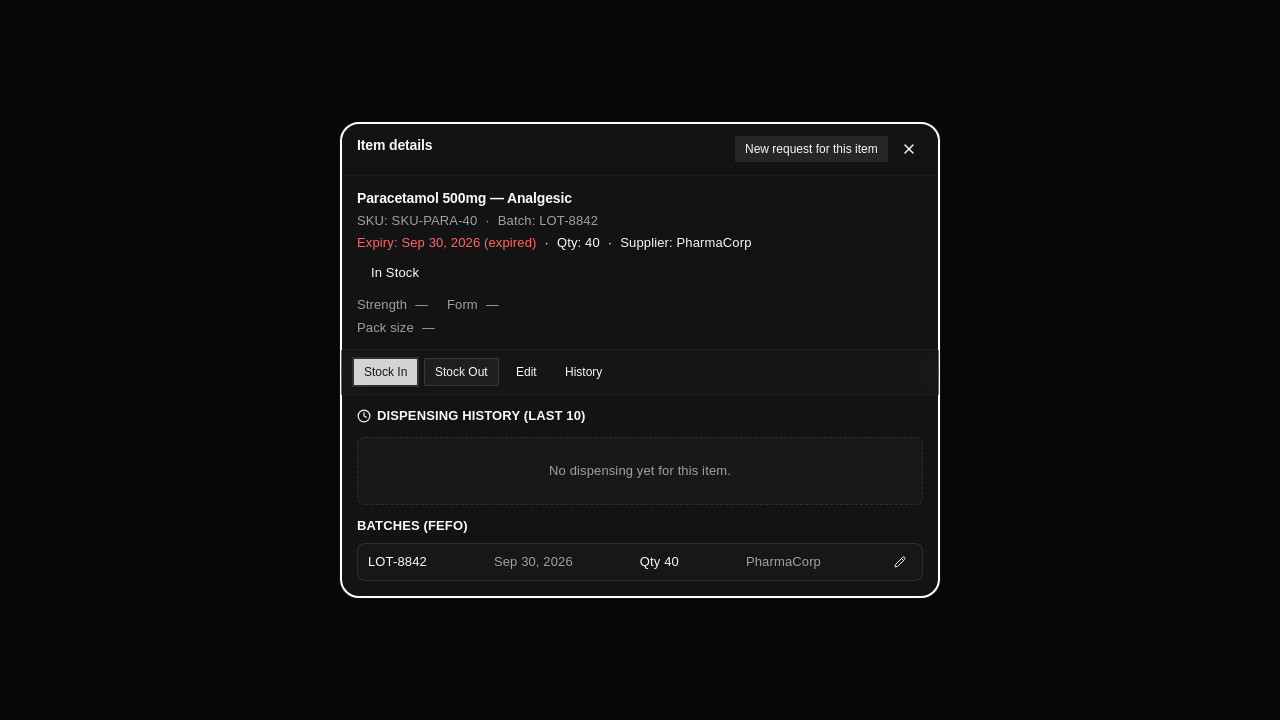
Test: StockDetailModal › swaps the detail body for the edit form and back
Expected: the heading "Batches (FEFO)" is shown, x1=357 y1=518 x2=468 y2=533
Click the button "Edit". click: click(526, 372)
box: x1=505 y1=358 x2=548 y2=386
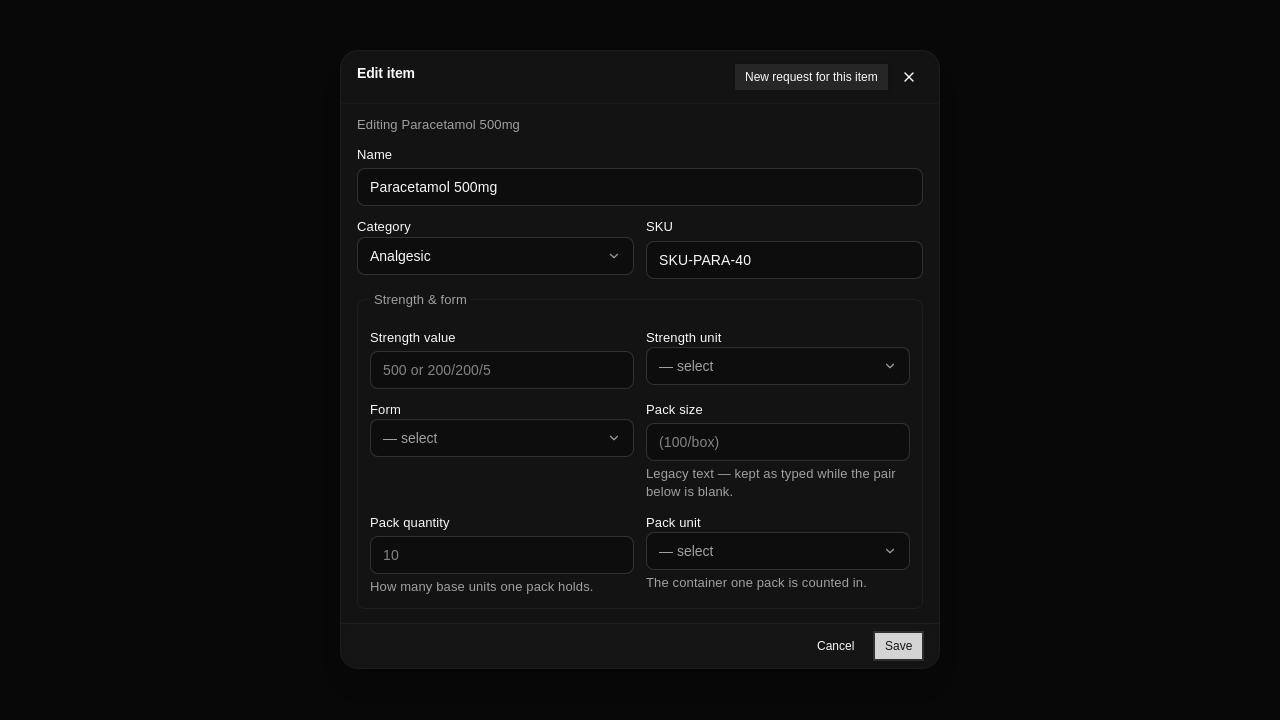
Now the heading "Edit item" is shown, box x1=357 y1=63 x2=415 y2=83
Now the heading "Batches (FEFO)" is gone
Now the field labelled "Name" holds "Paracetamol 500mg", box x1=357 y1=169 x2=923 y2=207
Click the button "Cancel". click: click(836, 647)
box: x1=806 y1=633 x2=866 y2=661
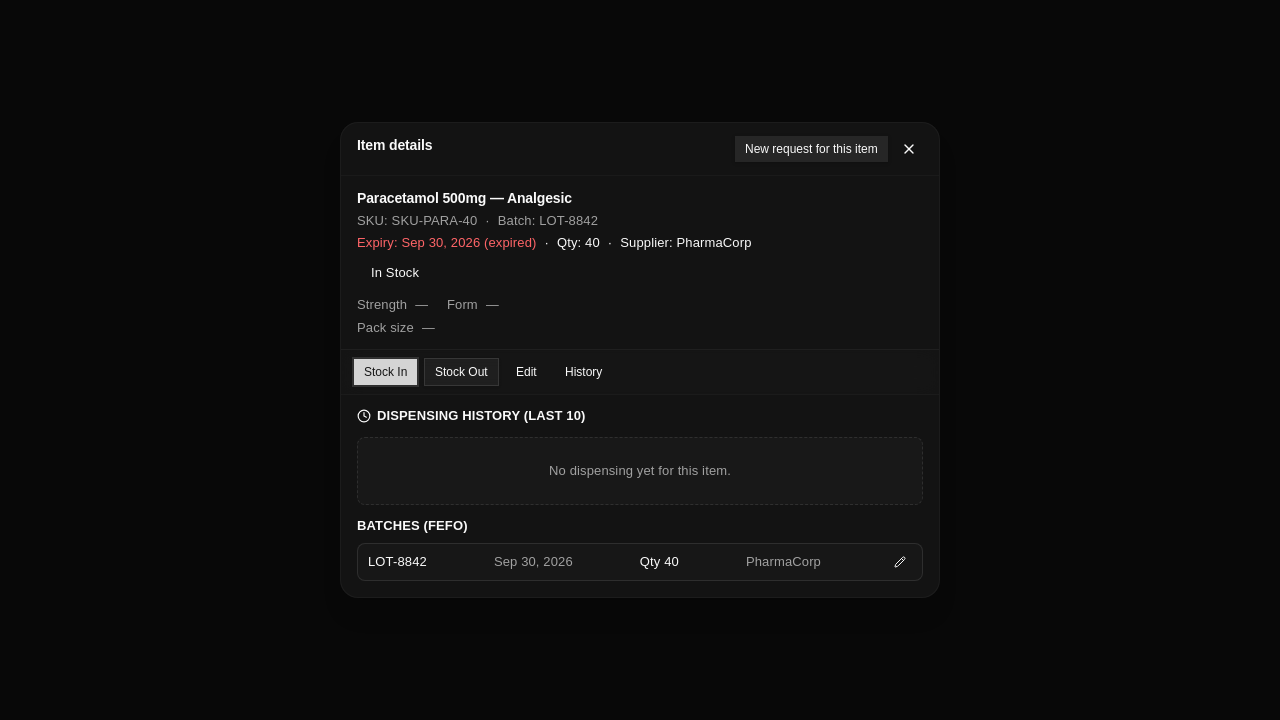
Now the heading "Item details" is shown, box x1=357 y1=135 x2=432 y2=155
Now the heading "Batches (FEFO)" is shown, box x1=357 y1=518 x2=468 y2=533
